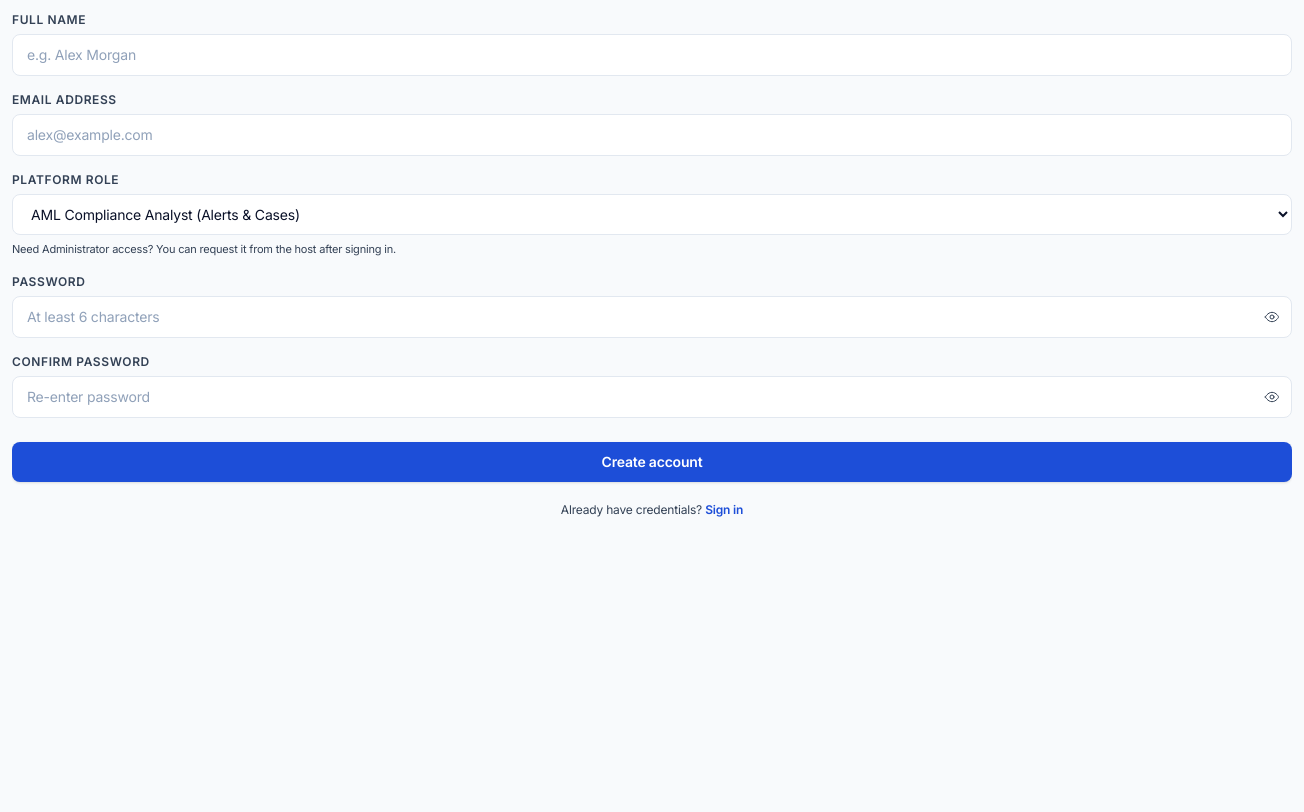
Test: SignUpForm › shows error when passwords do not match
Type "Jane Doe" into the field labelled "Full name". click: (652, 55)
box: [12,34,1292,76]
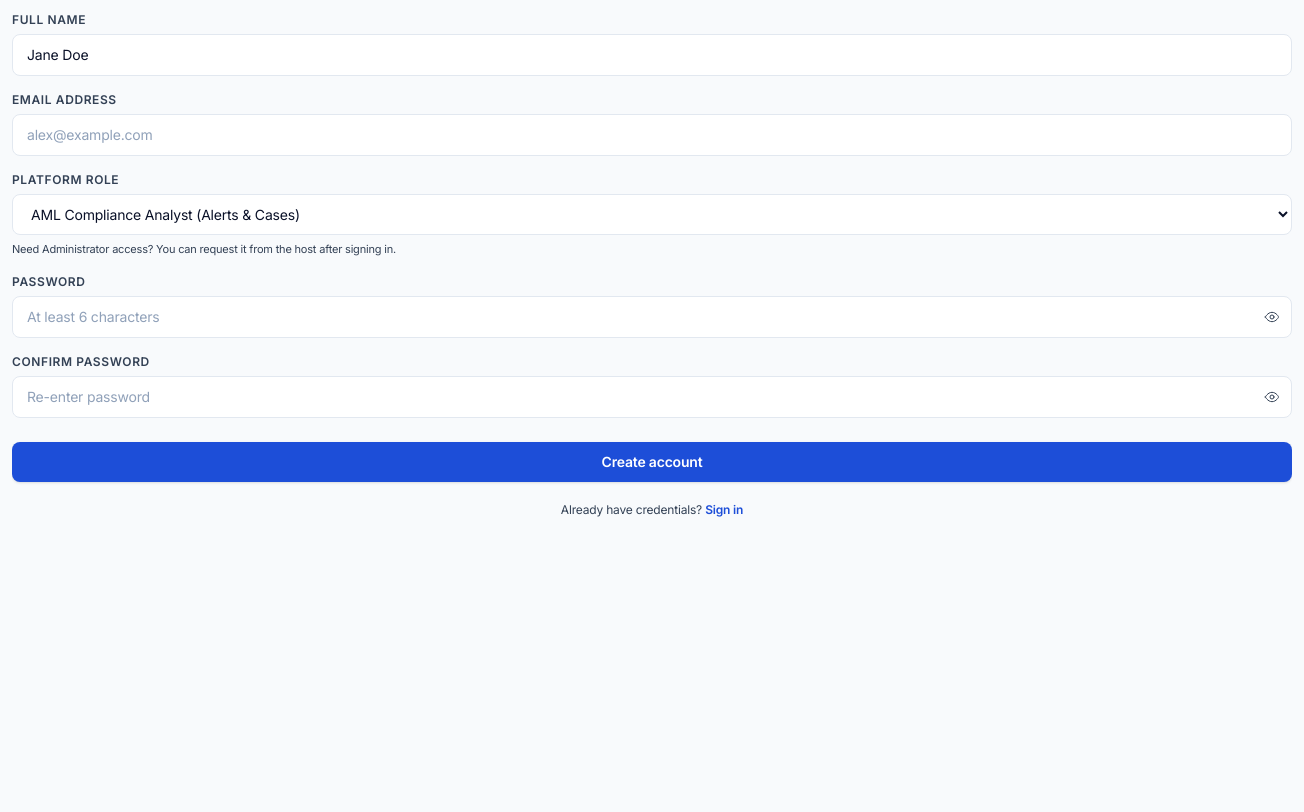
Type "jane@example.com" into the field labelled "Email address". click: (652, 135)
box: [12,114,1292,156]
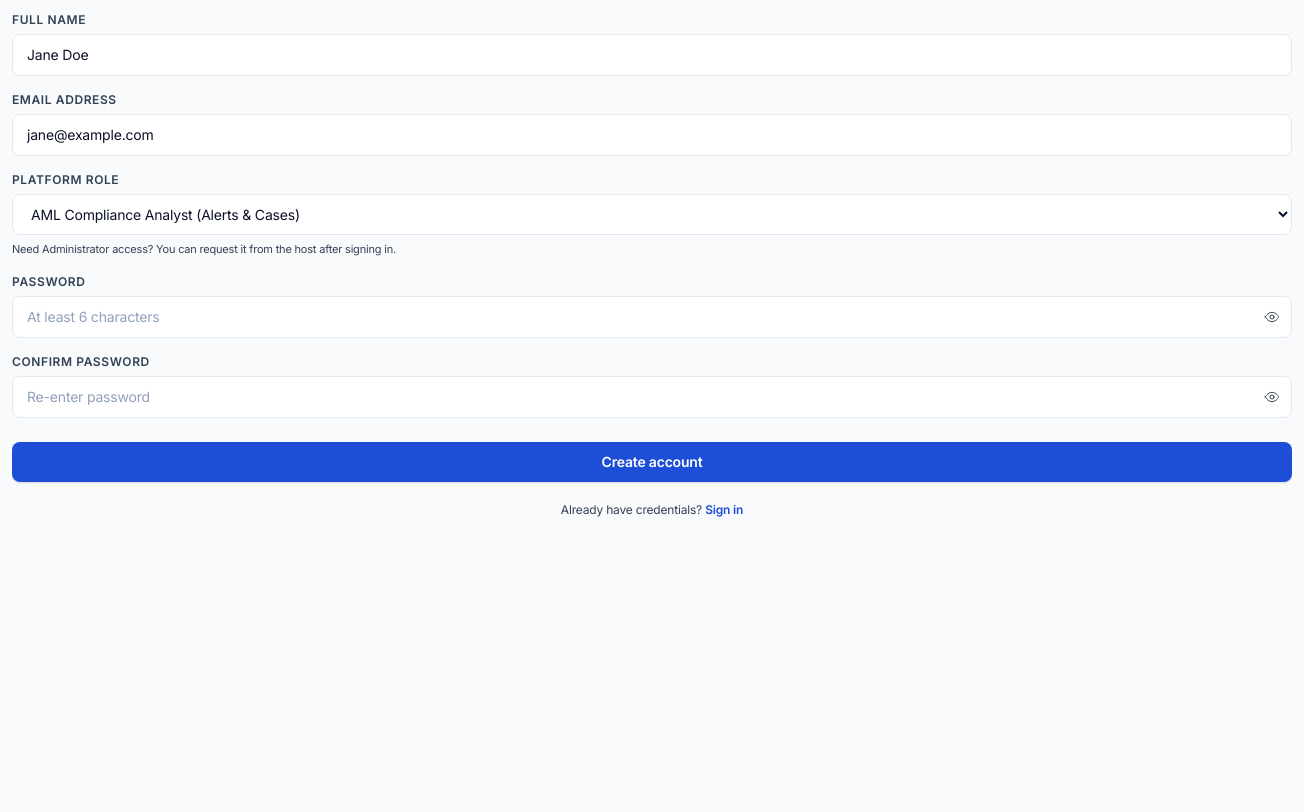
Type "password123" into the password field labelled "Password". click: (652, 316)
box: [12,296,1292,338]
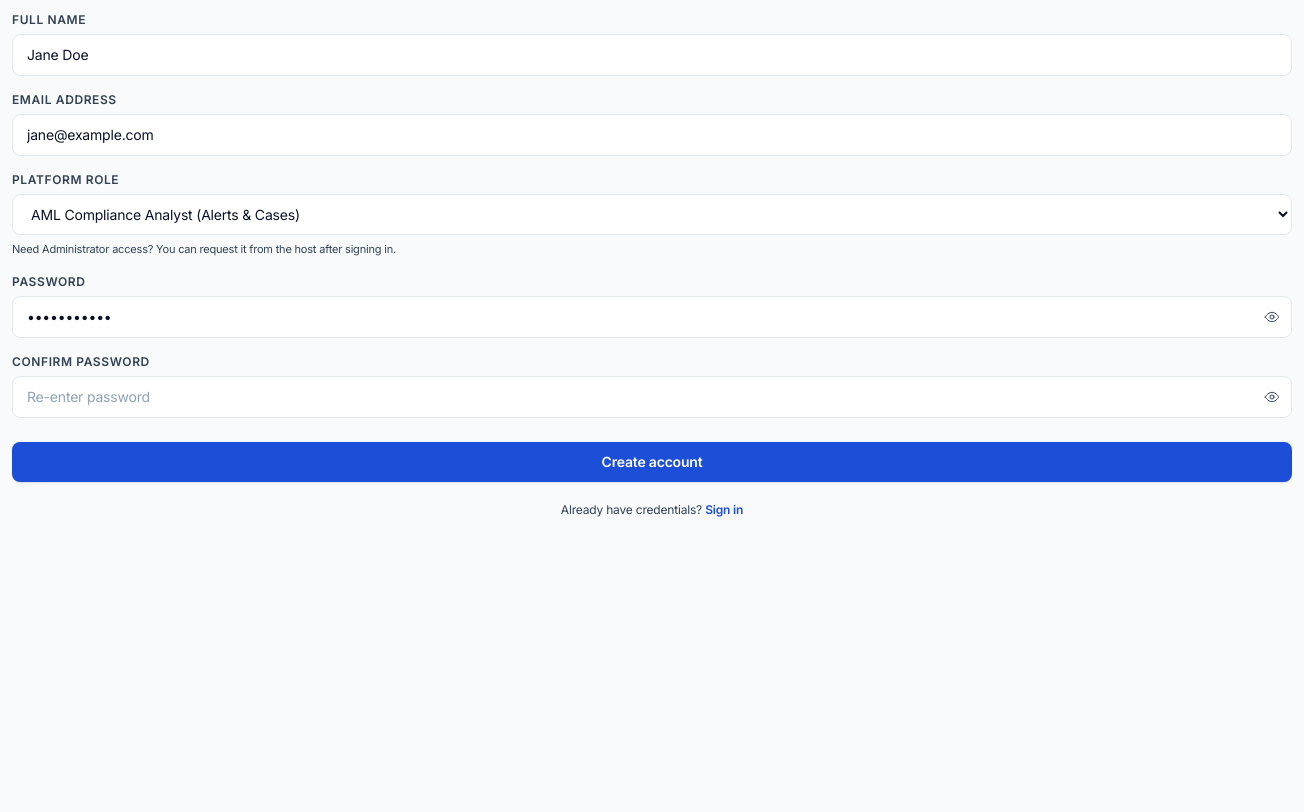
Type "password456" into the password field labelled "Confirm password". click: (652, 396)
box: [12,376,1292,418]
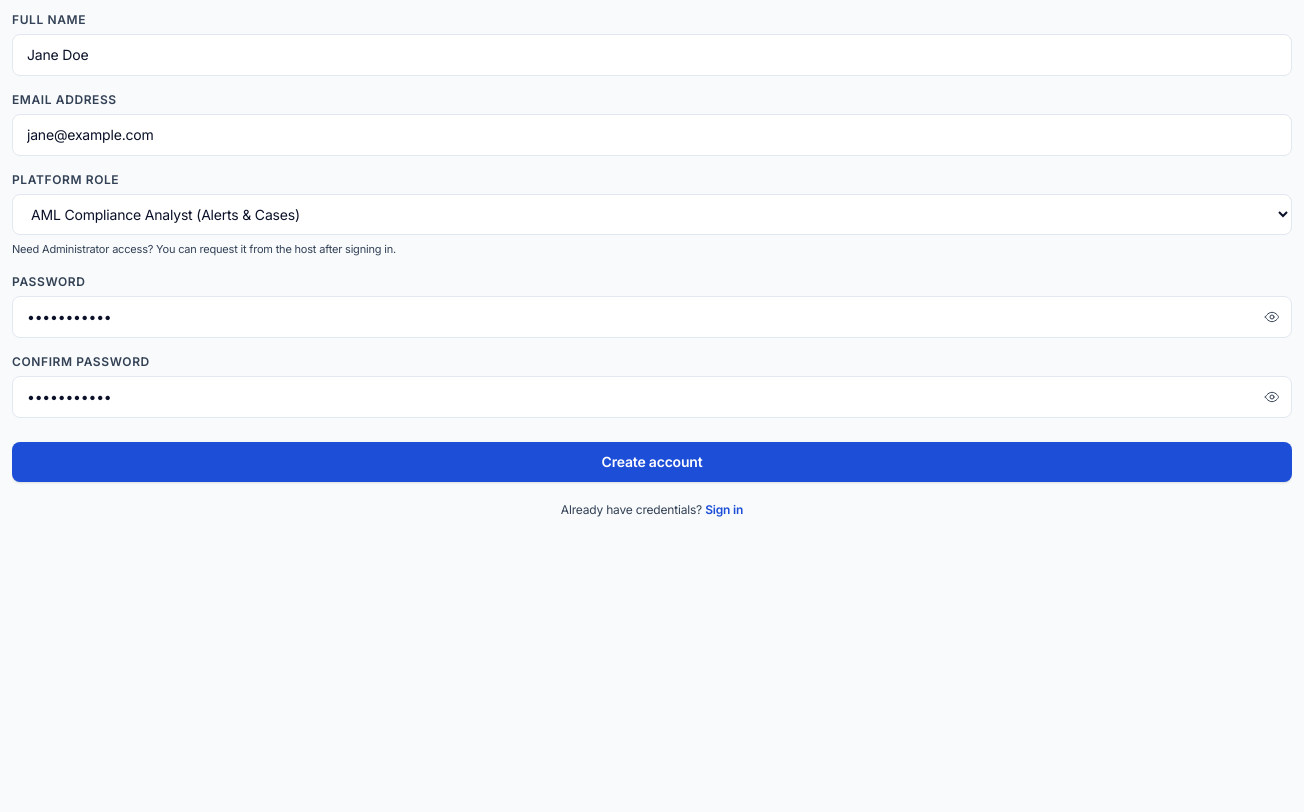
Click the button "Create account". click: (652, 462)
box: [12,442,1292,482]
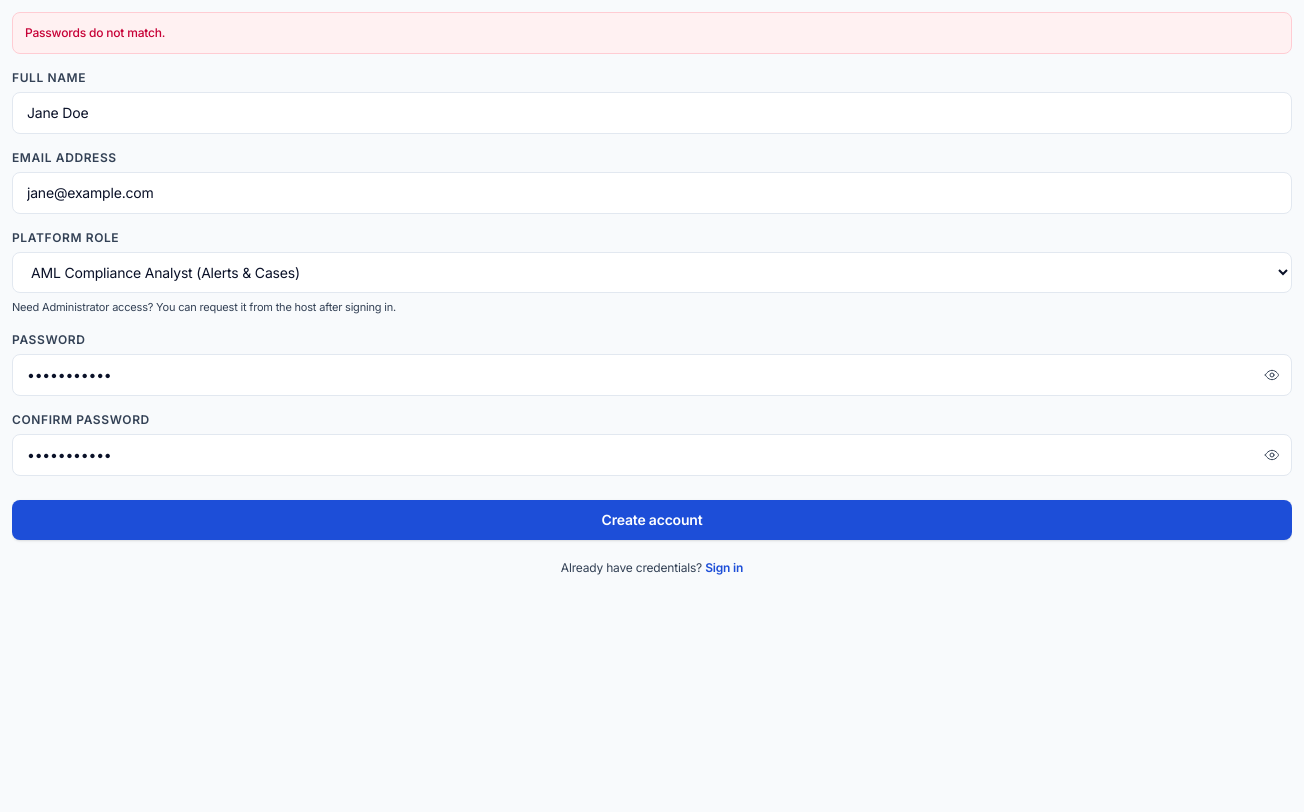
expect the message reads "Passwords do not match.": met, box [25,25,165,40]
